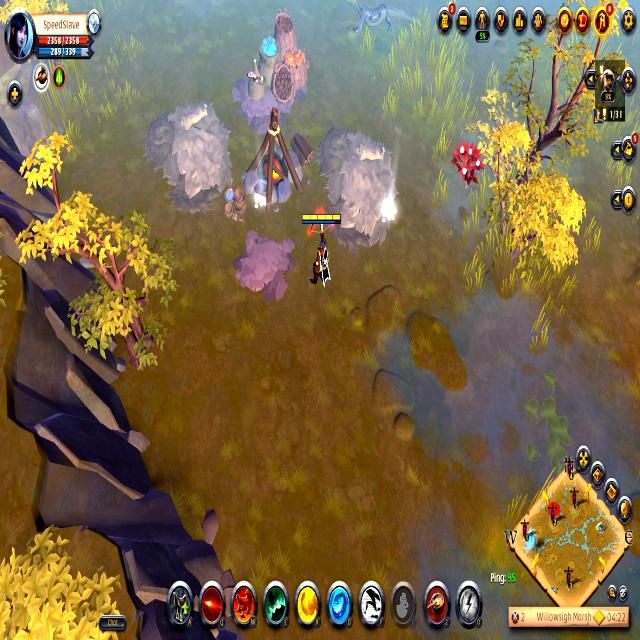hide: (448, 130, 491, 200)
ore: (334, 0, 421, 41)
red: (299, 205, 344, 302)
stone: (378, 193, 400, 227), (251, 192, 269, 211)
